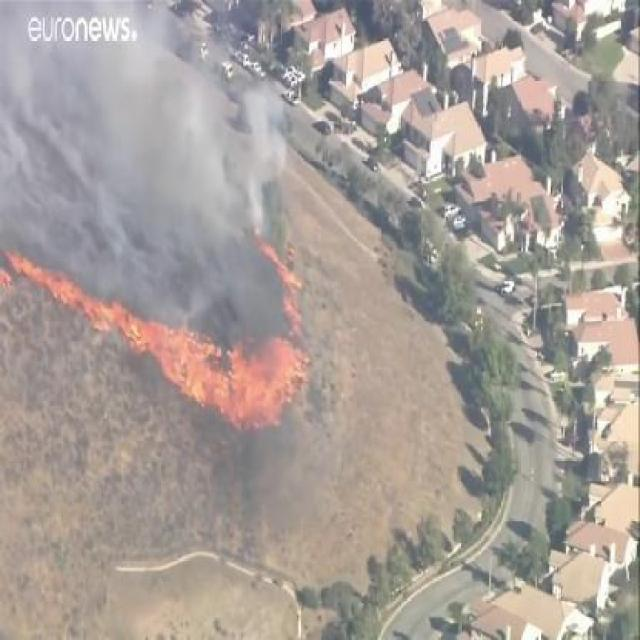Fire: (136, 317, 312, 428), (2, 255, 136, 337), (257, 238, 308, 334)
